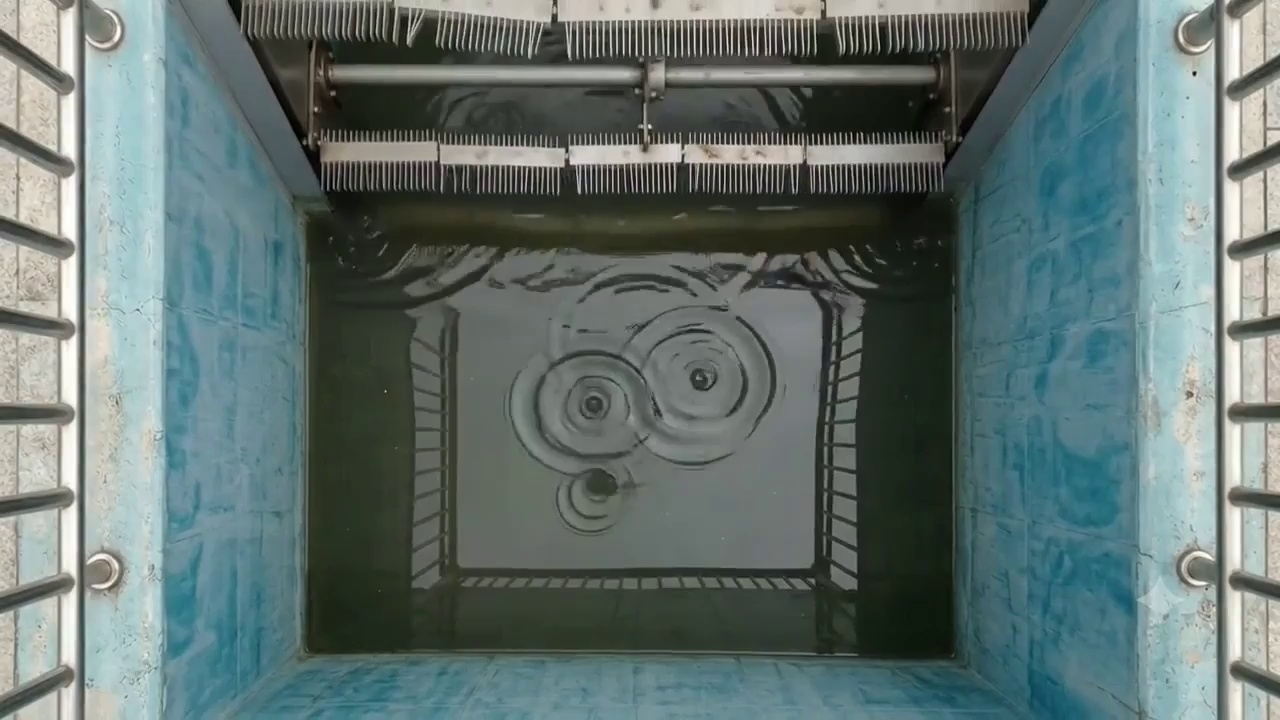damage: (373, 3, 457, 56), (511, 15, 598, 62), (764, 156, 836, 201), (801, 10, 852, 66), (432, 163, 493, 201), (546, 150, 590, 201), (665, 152, 707, 199)
